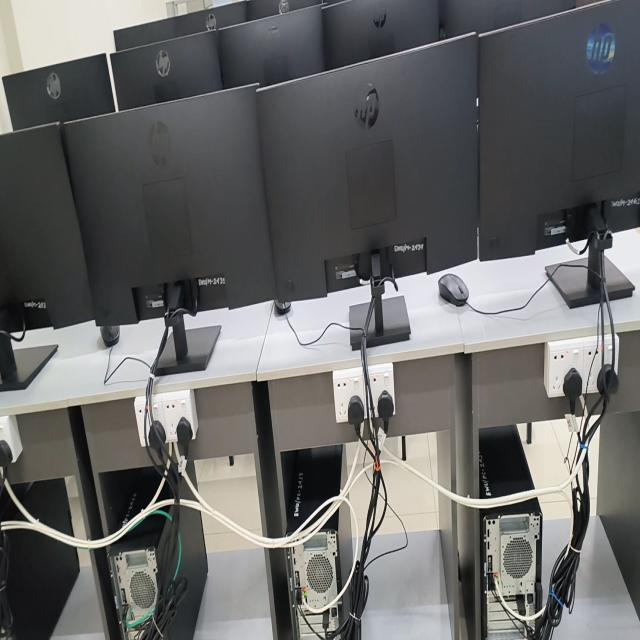Cpu: (107, 457, 209, 639), (286, 444, 359, 639), (479, 424, 543, 639), (0, 477, 81, 639)
Monitor: (257, 36, 479, 350), (60, 85, 276, 375), (479, 0, 640, 308), (0, 124, 93, 392), (111, 31, 222, 110), (4, 53, 115, 130), (219, 5, 324, 86), (322, 0, 439, 69), (439, 0, 573, 37), (170, 1, 246, 36), (114, 18, 175, 51), (247, 0, 321, 20)
Mouse: (438, 274, 469, 306), (100, 326, 120, 347), (274, 299, 291, 315)
